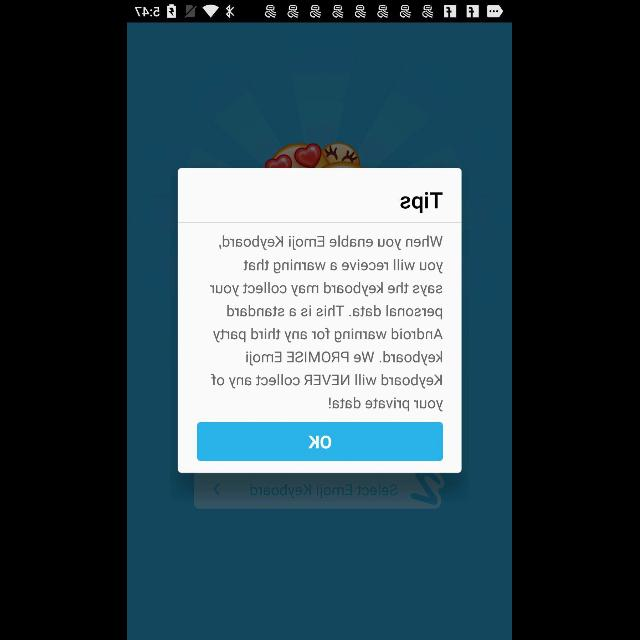panel: (178, 168, 462, 474)
text: (210, 235, 444, 412), (401, 192, 444, 214)
textbutton: (198, 422, 444, 461)
uppertaskbar: (128, 1, 512, 23)
